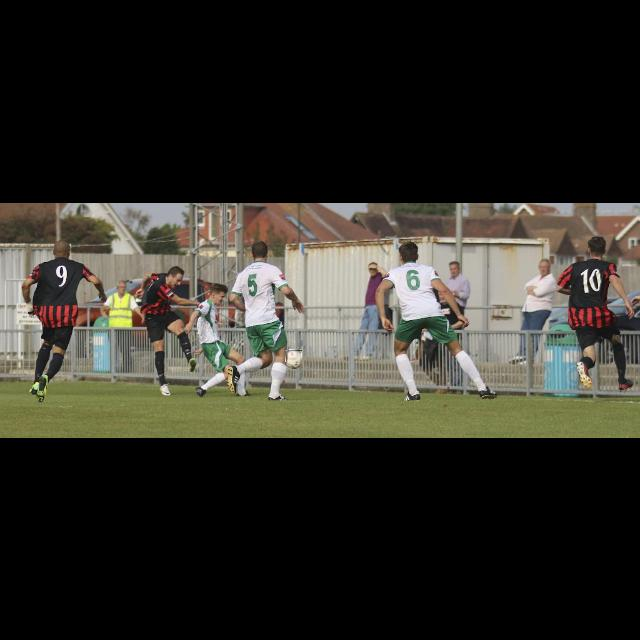Football: (286, 350, 302, 364)
